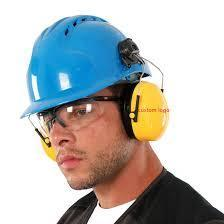Ear_protector: (121, 80, 171, 147), (31, 125, 58, 161)
Hard_hat: (15, 17, 156, 120)
Humans: (23, 94, 224, 224)
Visor: (26, 96, 107, 133)
